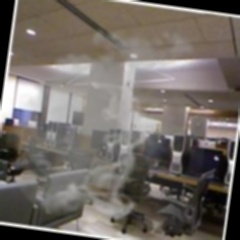smoke: (65, 54, 155, 221)
